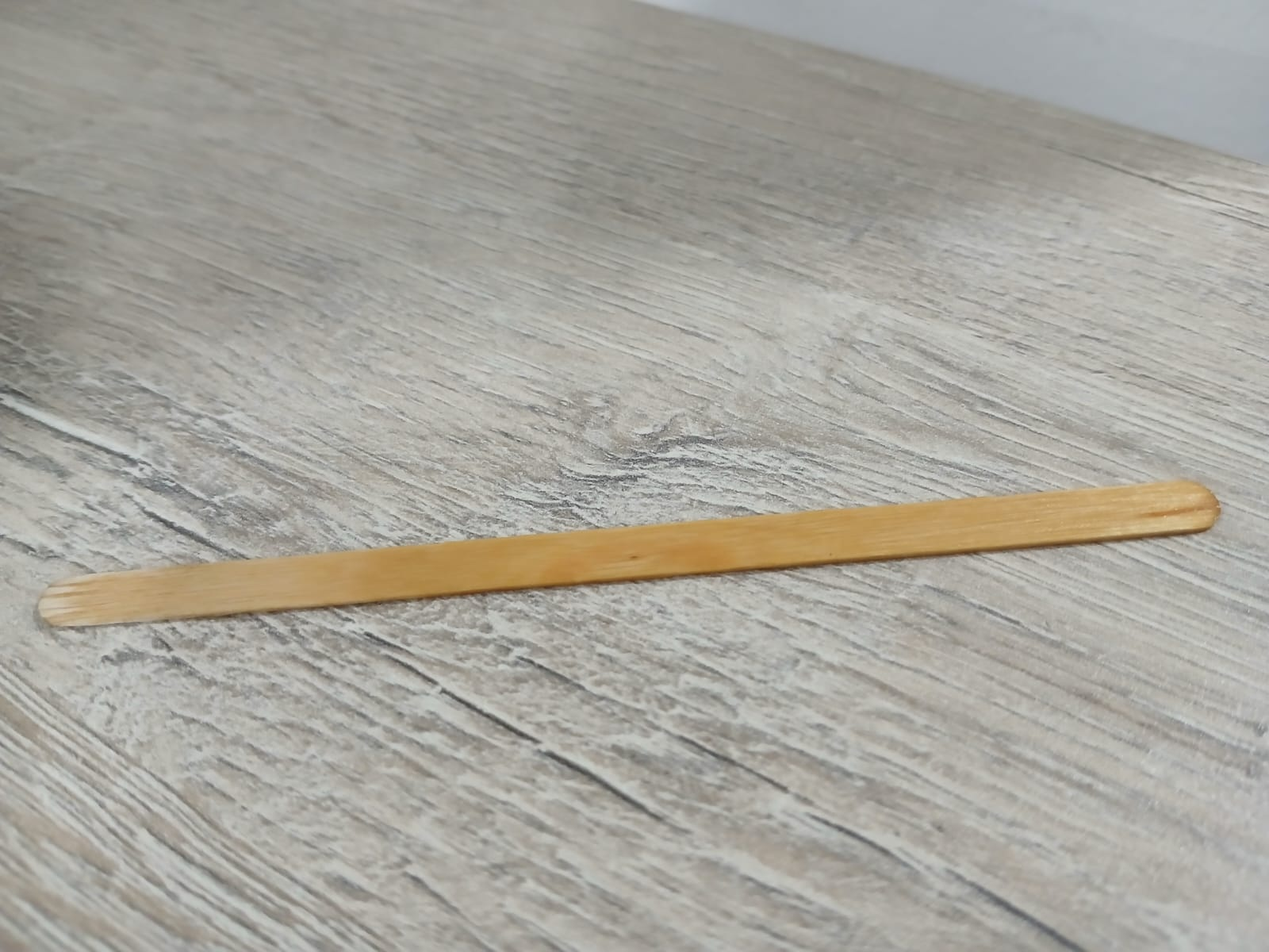Ordinario: (38, 479, 1223, 629)
